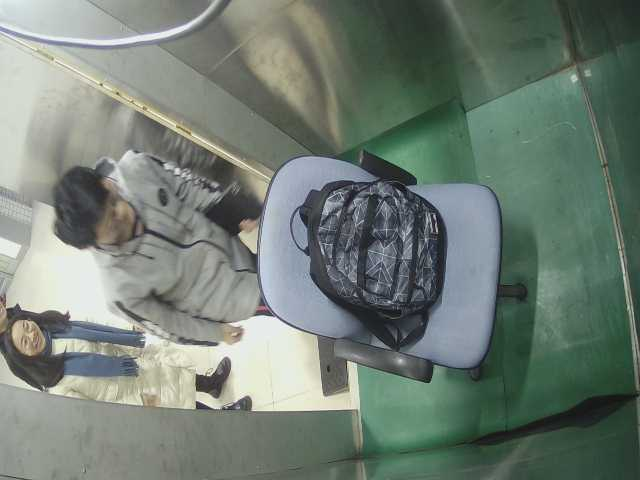bag: (298, 173, 459, 325)
chair: (242, 145, 524, 381)
person: (50, 153, 272, 330), (6, 294, 263, 409)
